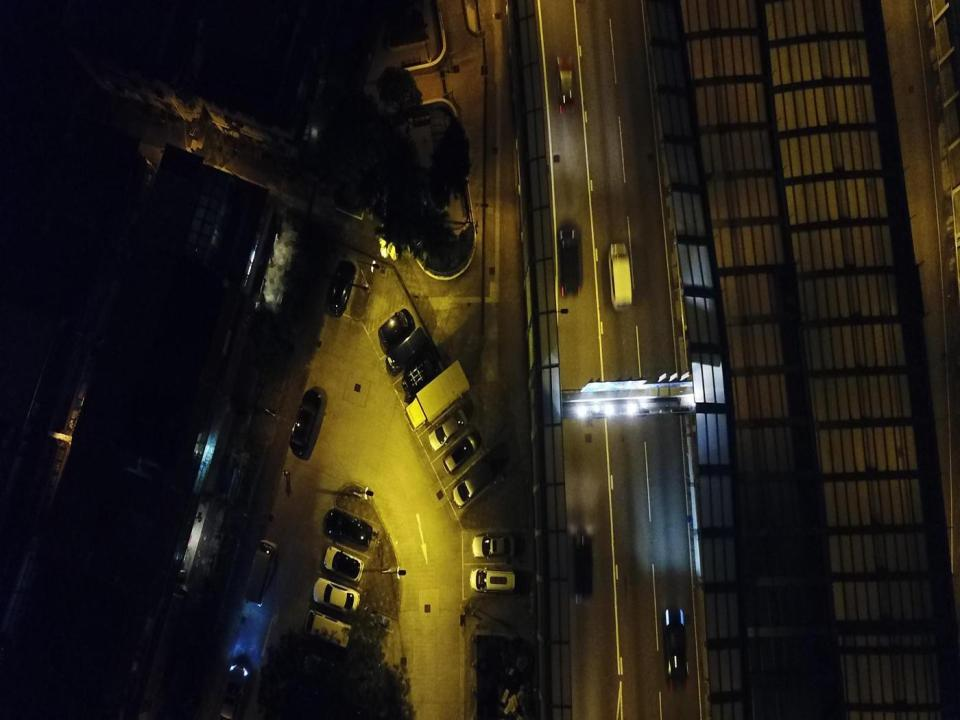bus: (243, 538, 278, 607)
car: (385, 325, 430, 376), (289, 387, 322, 456), (663, 608, 690, 692), (323, 508, 373, 548), (215, 663, 250, 719), (427, 406, 469, 452), (324, 259, 357, 317), (452, 463, 494, 508), (313, 577, 360, 615), (402, 354, 442, 398), (322, 545, 365, 583), (571, 534, 595, 598), (559, 228, 581, 296), (469, 565, 520, 594), (442, 434, 478, 473), (379, 307, 414, 347), (471, 533, 518, 560), (556, 54, 575, 110)
truck: (404, 358, 471, 433)
van: (303, 610, 353, 650), (608, 242, 632, 313)
